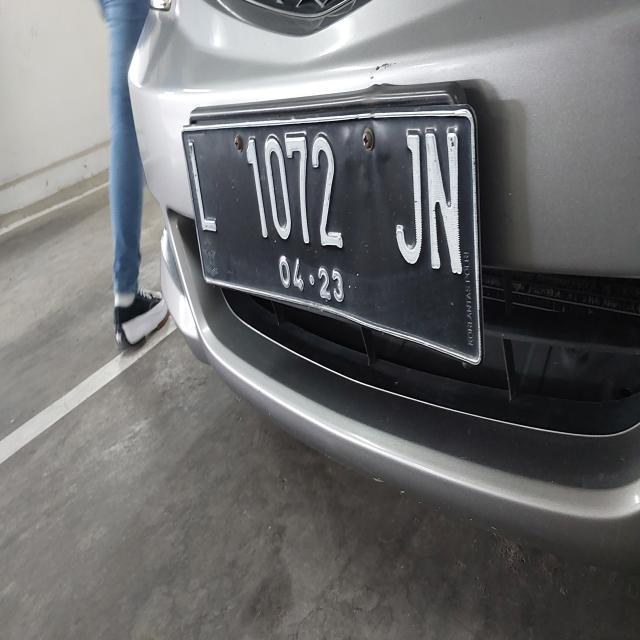0: (260, 128, 297, 245)
1: (237, 132, 269, 257)
2: (312, 126, 346, 256)
7: (287, 128, 311, 251)
J: (394, 126, 426, 268)
L: (182, 132, 222, 255)
N: (424, 125, 464, 282)
